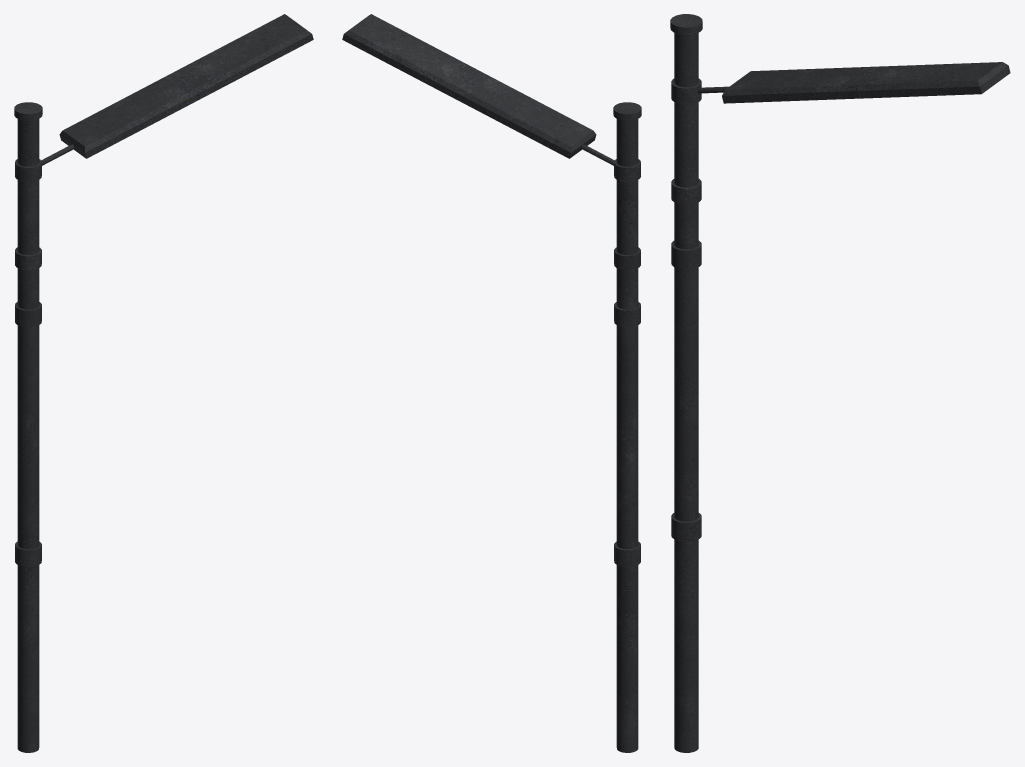
Rendered from RoadLight_6.fbx.
3 renders of one model, left to right at view 1: azimuth 30°, elevation 25°; view 2: azimuth 150°, elevation 25°; view 3: azimuth 330°, elevation 25°, orthographic. The views are drawn at different scales.
Parts seen in each view (by area): view 1: RoadLight_6; view 2: RoadLight_6; view 3: RoadLight_6.
Boxes of the visible parts, x1,y1,x2,y2 form: RoadLight_6: (14,14,313,752); RoadLight_6: (342,14,641,752); RoadLight_6: (670,14,1010,752).
Size of the model in its own units: 2.84 by 6.28 by 0.4368.
